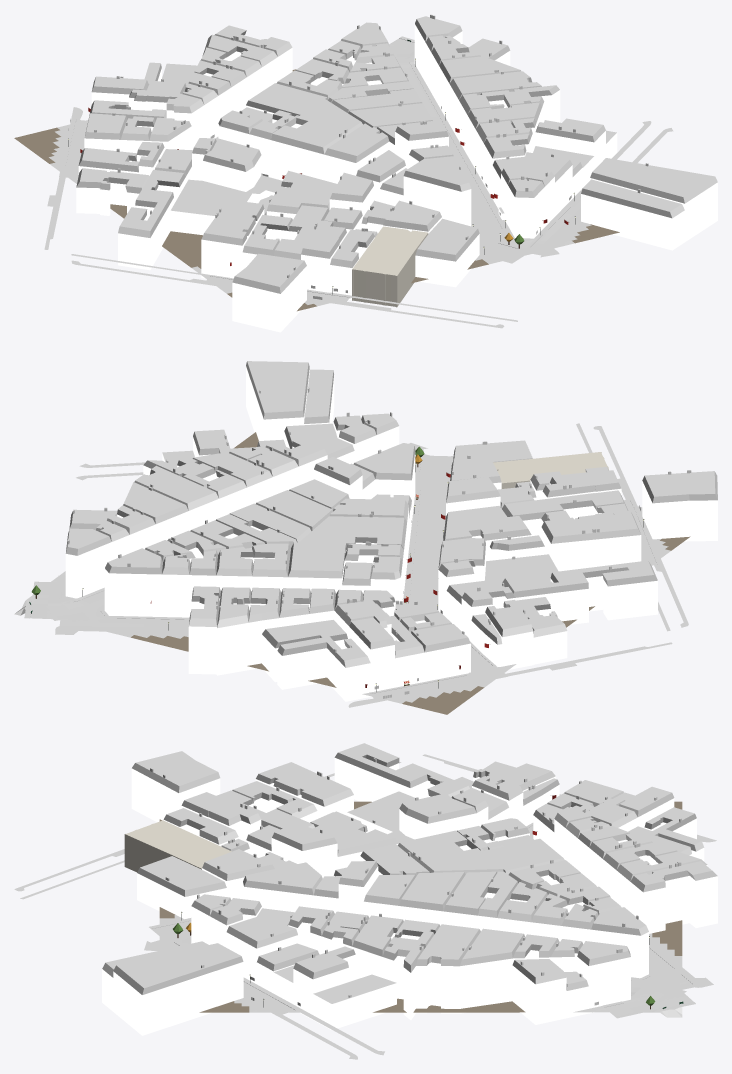
The model's file is zone_A4.glb.
3 renders of one model, top to bottom at view 1: azimuth 30°, elevation 25°; view 2: azimuth 150°, elevation 25°; view 3: azimuth 270°, elevation 25°, orthographic. The views are drawn at different scales.
Visible parts, largest first — view 1: zone_A4_batiments, zone_A4_sol_NOCOL, zone_A4_terrain; view 2: zone_A4_batiments, zone_A4_sol_NOCOL, zone_A4_terrain; view 3: zone_A4_batiments, zone_A4_sol_NOCOL, zone_A4_terrain.
Part boxes in pixels (box(x1,y1,x2,y2)): zone_A4_batiments: box(76, 14, 717, 332); zone_A4_sol_NOCOL: box(44, 36, 673, 328); zone_A4_terrain: box(14, 59, 619, 311); zone_A4_batiments: box(65, 361, 717, 701); zone_A4_sol_NOCOL: box(24, 423, 688, 707); zone_A4_terrain: box(14, 432, 690, 714); zone_A4_batiments: box(102, 743, 717, 1035); zone_A4_sol_NOCOL: box(14, 754, 716, 1059); zone_A4_terrain: box(159, 801, 682, 1017).
Size of the model in its own units: 291 by 31.41 by 283.
